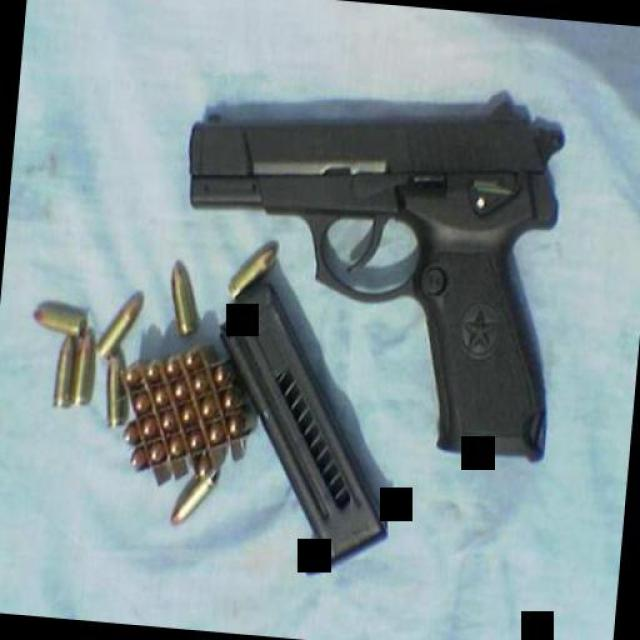gun: (162, 71, 572, 461)
